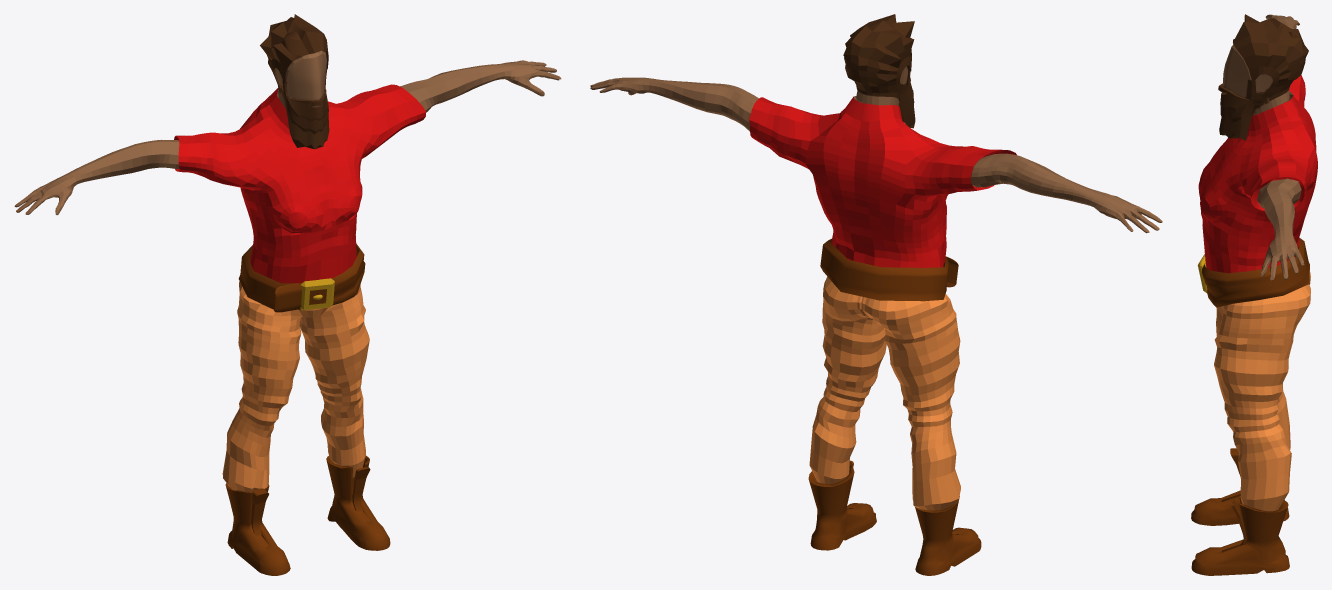
Rendered from villageoisOBJ.obj.
3 views of the same model, side by side, from view 1: azimuth 30°, elevation 25°; view 2: azimuth 150°, elevation 25°; view 3: azimuth 270°, elevation 25° (orthographic). The views are drawn at different scales.
Visible parts, largest first — view 1: villageois1 dude3, villageois1 ceinture, villageois1 boucle_Ceinture; view 2: villageois1 dude3, villageois1 ceinture; view 3: villageois1 dude3, villageois1 ceinture.
Boxes of the visible parts, box(x1,y1,x2,y2) form: villageois1 dude3: box(14, 14, 561, 575); villageois1 ceinture: box(238, 244, 365, 312); villageois1 boucle_Ceinture: box(300, 278, 334, 310); villageois1 dude3: box(590, 14, 1162, 575); villageois1 ceinture: box(820, 238, 958, 301); villageois1 dude3: box(1191, 14, 1317, 575); villageois1 ceinture: box(1202, 237, 1309, 307).
Bounding box in the file's own units: 17.93 × 16.27 × 3.57.
Materials: 1 (1 with a texture image).
